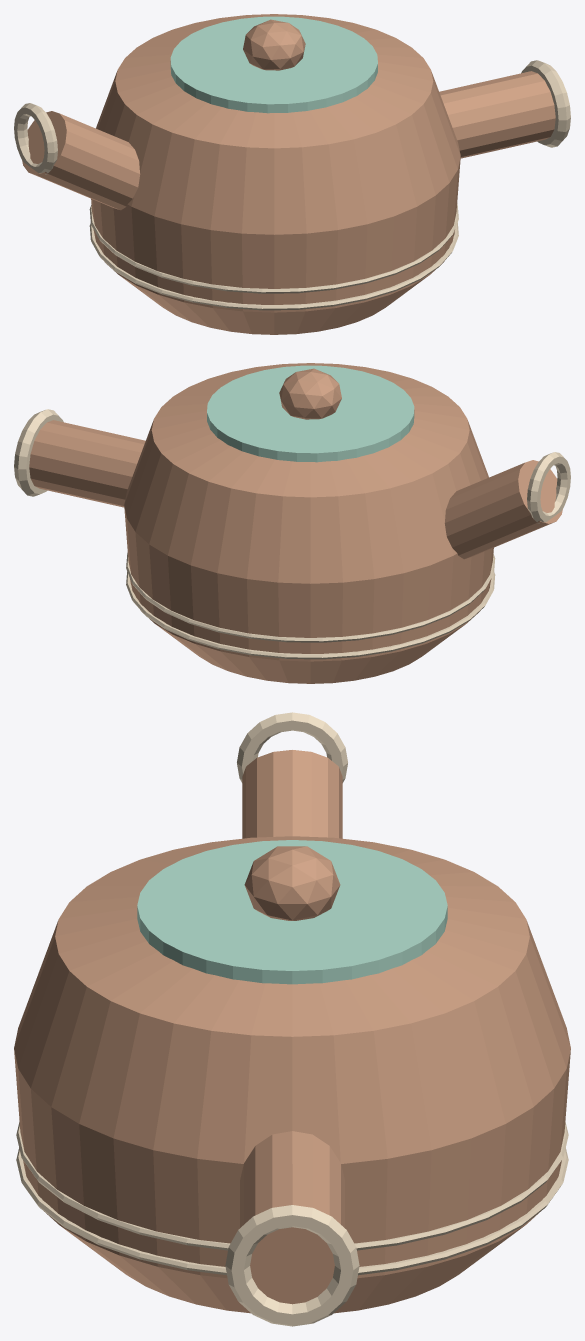
The model's file is tea_kyusu.glb.
The picture shows the model from 3 angles, top to bottom: view 1: azimuth 30°, elevation 25°; view 2: azimuth 150°, elevation 25°; view 3: azimuth 270°, elevation 25°; orthographic projection. The views are drawn at different scales.
Visible parts, largest first — view 1: Rounded hand-thrown kyusu, Tight ceramic lid, Side handle, Curved pouring spout, Lid button, Coiling line, Coiling line.001, Spout end, Handle collar; view 2: Rounded hand-thrown kyusu, Tight ceramic lid, Side handle, Curved pouring spout, Lid button, Coiling line, Coiling line.001, Spout end, Handle collar; view 3: Rounded hand-thrown kyusu, Tight ceramic lid, Side handle, Curved pouring spout, Handle collar, Lid button, Coiling line, Coiling line.001, Spout end.
Part boxes in pixels (x1,y1,x2,y2): Rounded hand-thrown kyusu: (91, 14, 460, 334); Tight ceramic lid: (170, 16, 377, 113); Side handle: (439, 71, 555, 158); Curved pouring spout: (22, 111, 140, 210); Lid button: (243, 19, 305, 70); Coiling line: (89, 222, 458, 310); Coiling line.001: (89, 204, 458, 293); Spout end: (14, 103, 57, 174); Handle collar: (521, 60, 570, 147); Rounded hand-thrown kyusu: (124, 363, 493, 683); Tight ceramic lid: (207, 365, 414, 462); Side handle: (29, 420, 145, 507); Curved pouring spout: (444, 460, 562, 559); Lid button: (279, 368, 341, 419); Coiling line: (126, 571, 495, 659); Coiling line.001: (126, 553, 495, 642); Spout end: (527, 452, 570, 523); Handle collar: (14, 409, 63, 496); Rounded hand-thrown kyusu: (14, 836, 570, 1313); Tight ceramic lid: (137, 840, 447, 984); Side handle: (240, 1131, 344, 1304); Curved pouring spout: (242, 750, 342, 838); Handle collar: (225, 1205, 359, 1326); Lid button: (244, 846, 340, 920); Coiling line: (16, 1148, 568, 1275); Coiling line.001: (16, 1121, 568, 1250); Spout end: (237, 712, 347, 782).
Size of the model in its own units: 1.95 by 0.9492 by 1.21.
